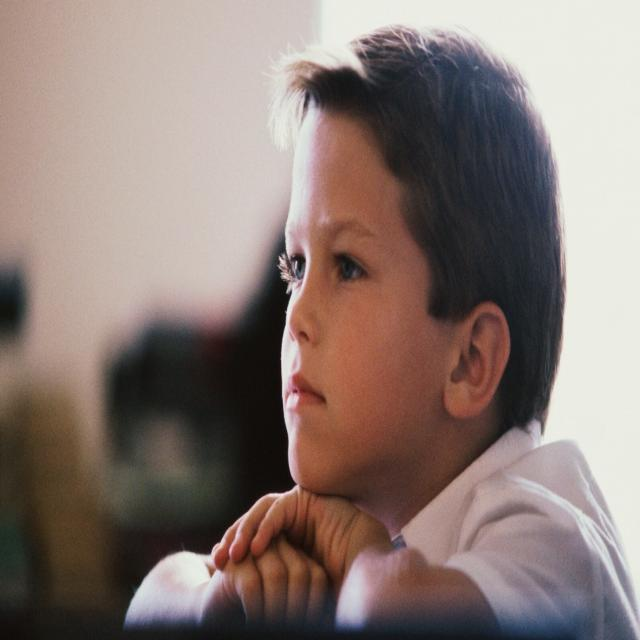child: (124, 25, 636, 640)
